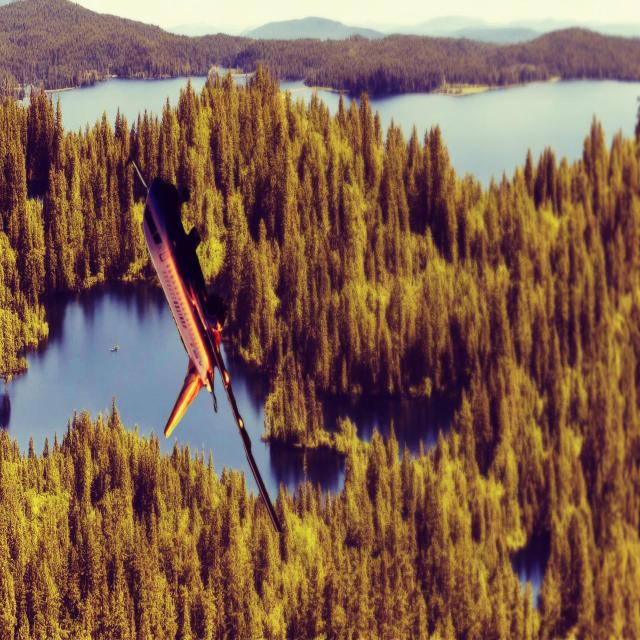airplane: (122, 155, 282, 534)
